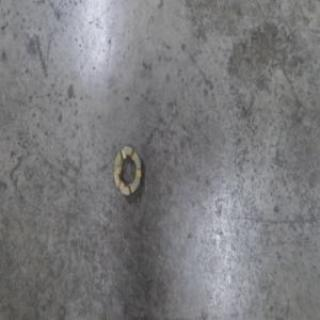Nuttrack_idkeyframe: (110, 141, 142, 197)
